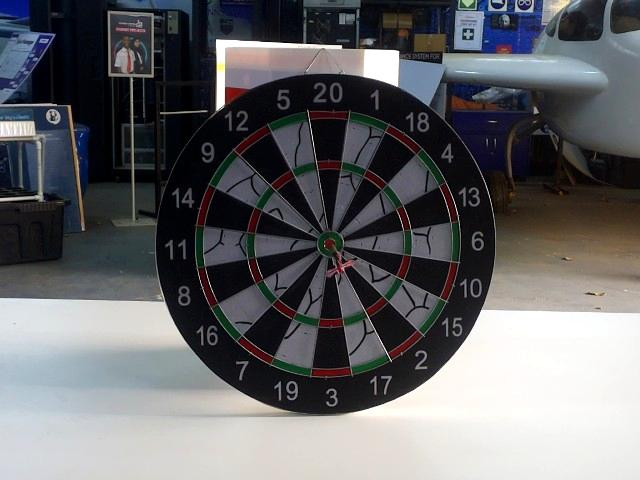bullseye: (324, 241, 337, 254)
